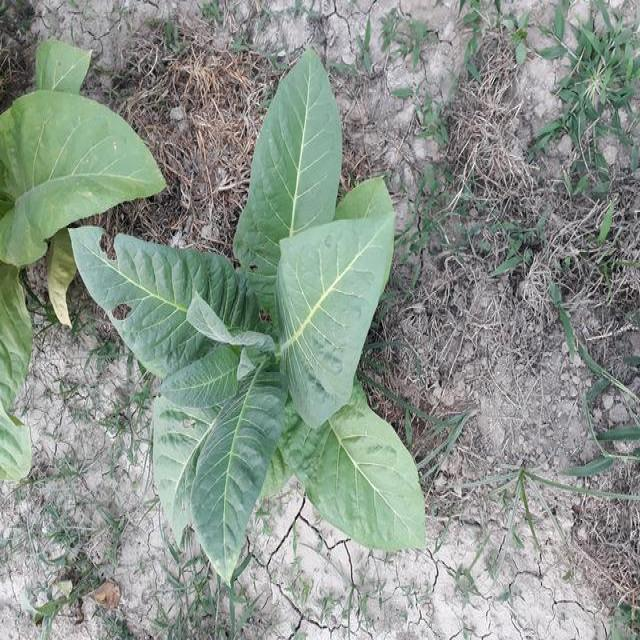crop: (75, 55, 432, 568), (0, 53, 157, 486)
